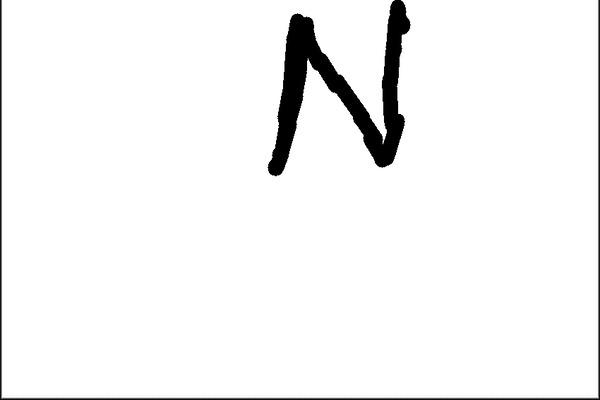N: (261, 0, 415, 180)
